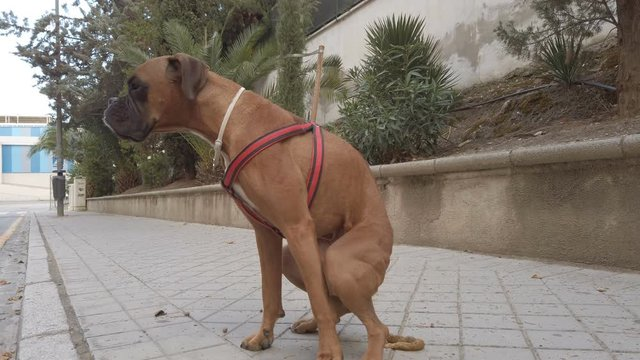dog_pooping: (101, 51, 428, 360)
